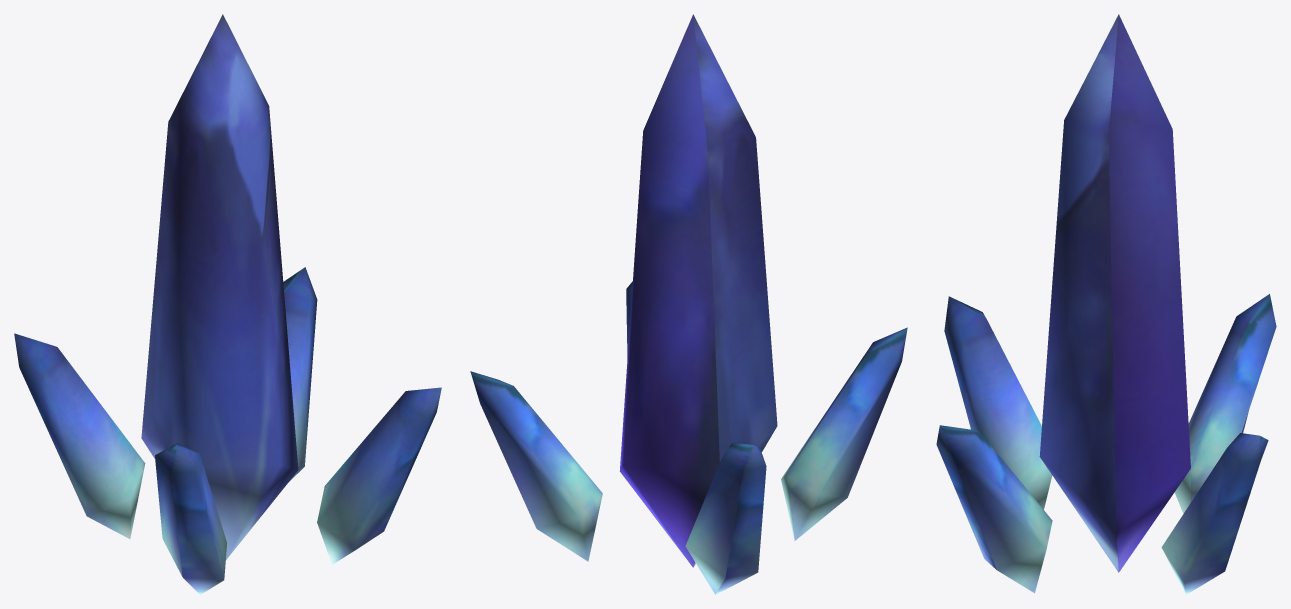
File: Xuanjue_shuijing.FBX
The picture shows the model from 3 angles, left to right: view 1: azimuth 30°, elevation 25°; view 2: azimuth 150°, elevation 25°; view 3: azimuth 270°, elevation 25°; orthographic projection.
Parts seen in each view (by area): view 1: Juesexuanze_shuijing; view 2: Juesexuanze_shuijing; view 3: Juesexuanze_shuijing.
Part boxes in pixels (left/top/right/bottom): Juesexuanze_shuijing: left=14, top=14, right=441, bottom=594; Juesexuanze_shuijing: left=470, top=14, right=907, bottom=594; Juesexuanze_shuijing: left=936, top=14, right=1276, bottom=594.
Bounding box in the file's own units: 15.39 × 15.22 × 27.6.
